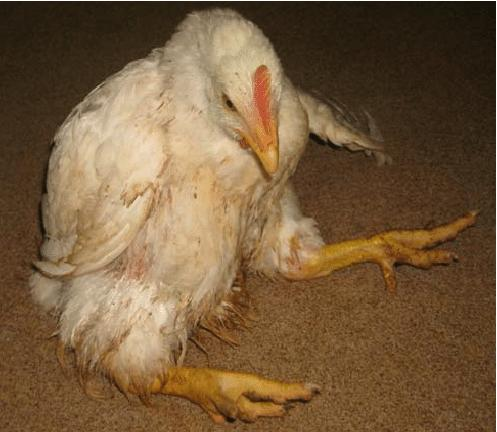AbNormal: (16, 7, 487, 424)
